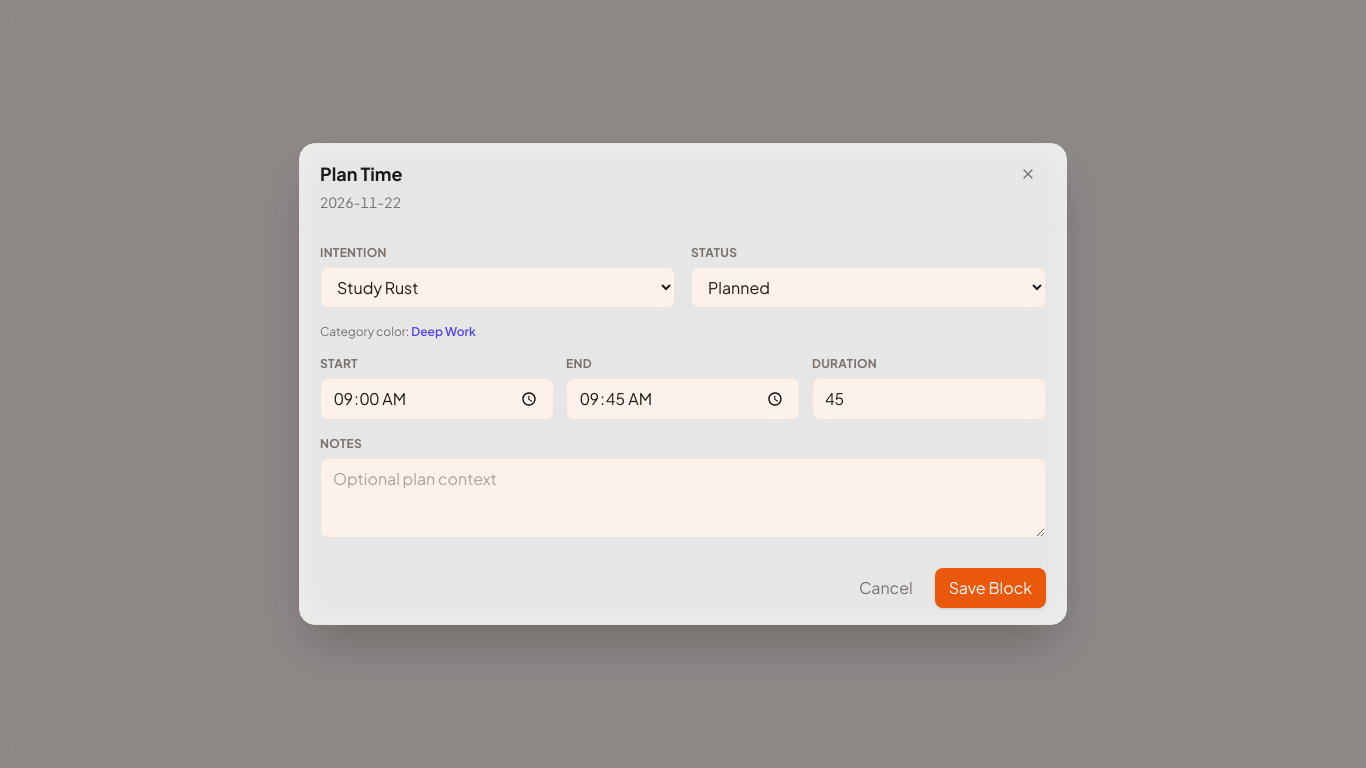
ScheduleBlockFormModal › keeps end time in sync when duration changes
Expected: the time field labelled "End" holds "09:45", [566,378,800,420]
Replace the text in the number field labelled "Duration" with "30" at (929, 399), box [812,378,1046,420]
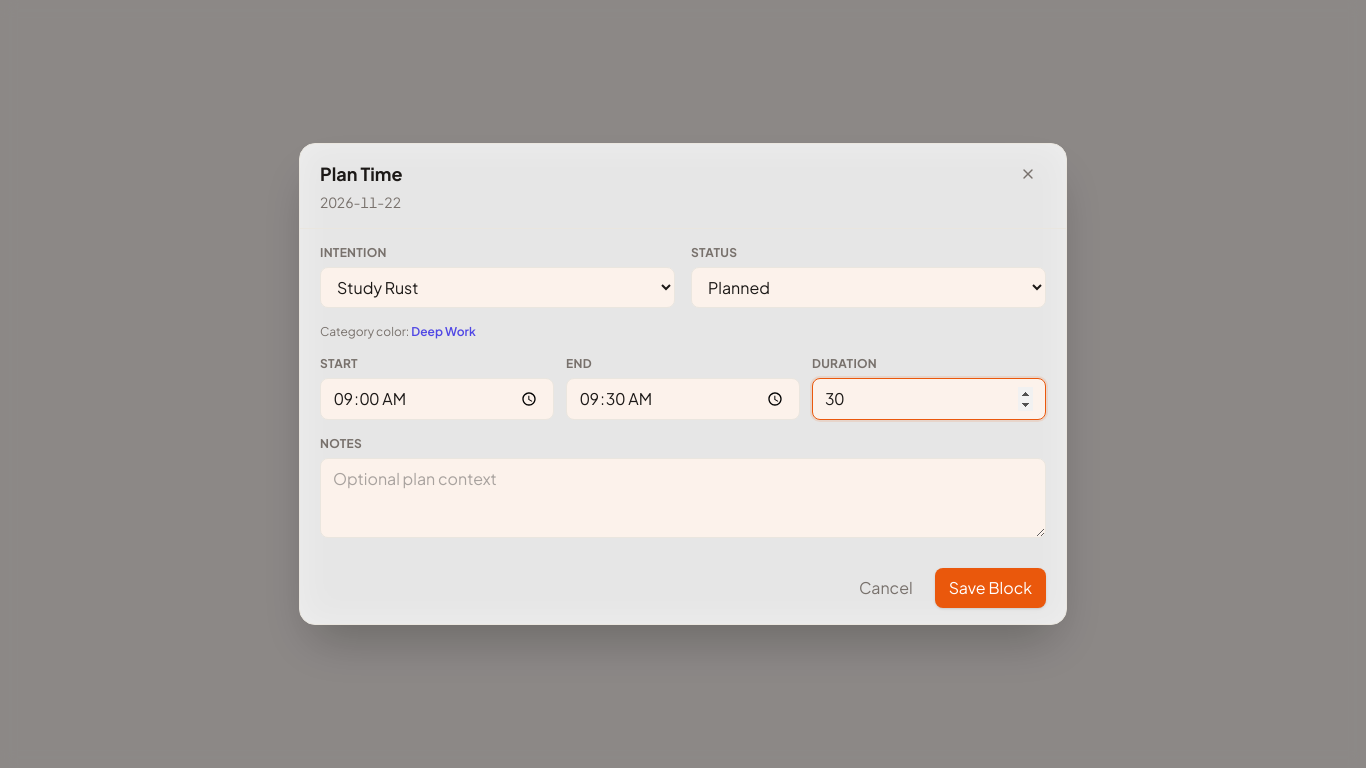
Now the time field labelled "End" holds "09:30", box [566,378,800,420]
